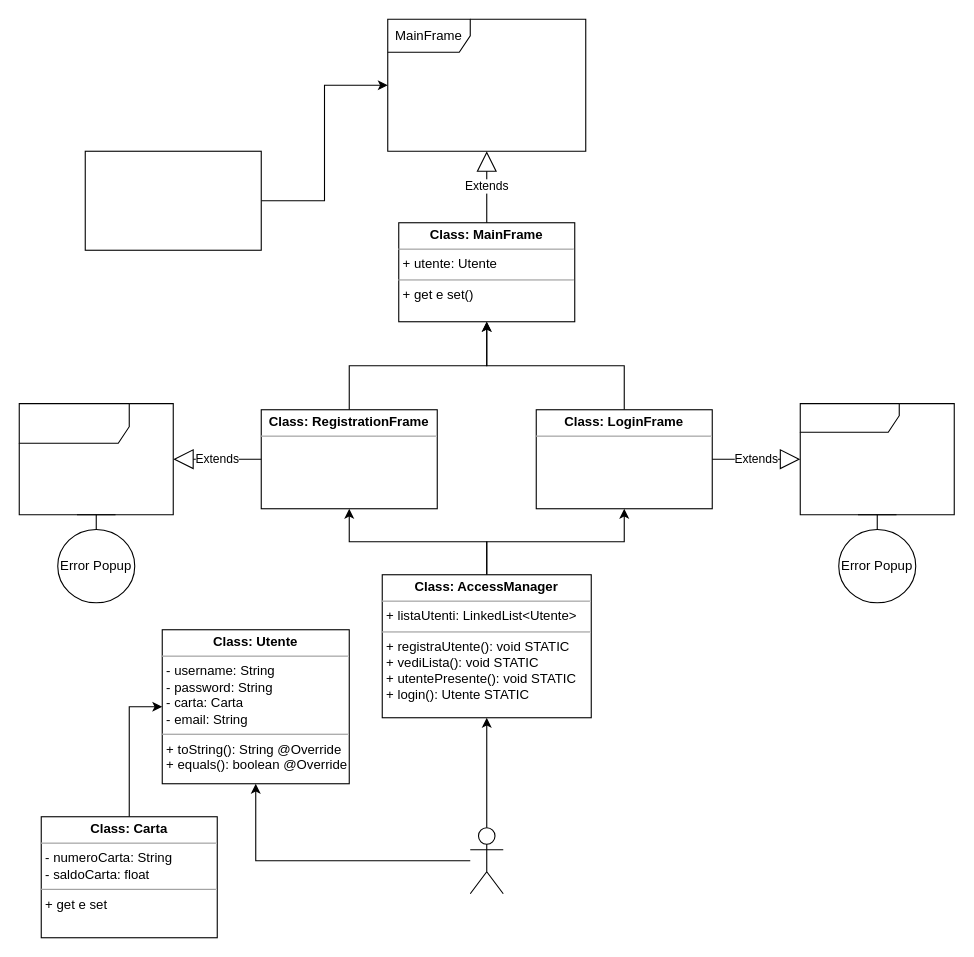
Some shapes in this 974 by 957 pixel diagram are drawn without their labels. The box of each missing label's shape, as (x1, y1, x2, y2) in pixels:
Actor: (469, 827, 503, 894)
ENUM: Prodotti LISTAPRODOTTI + getPrezzo(): float + info(): String: (84, 150, 261, 250)
LoginFrame: (799, 402, 954, 515)
Registration Frame: (18, 402, 173, 515)
